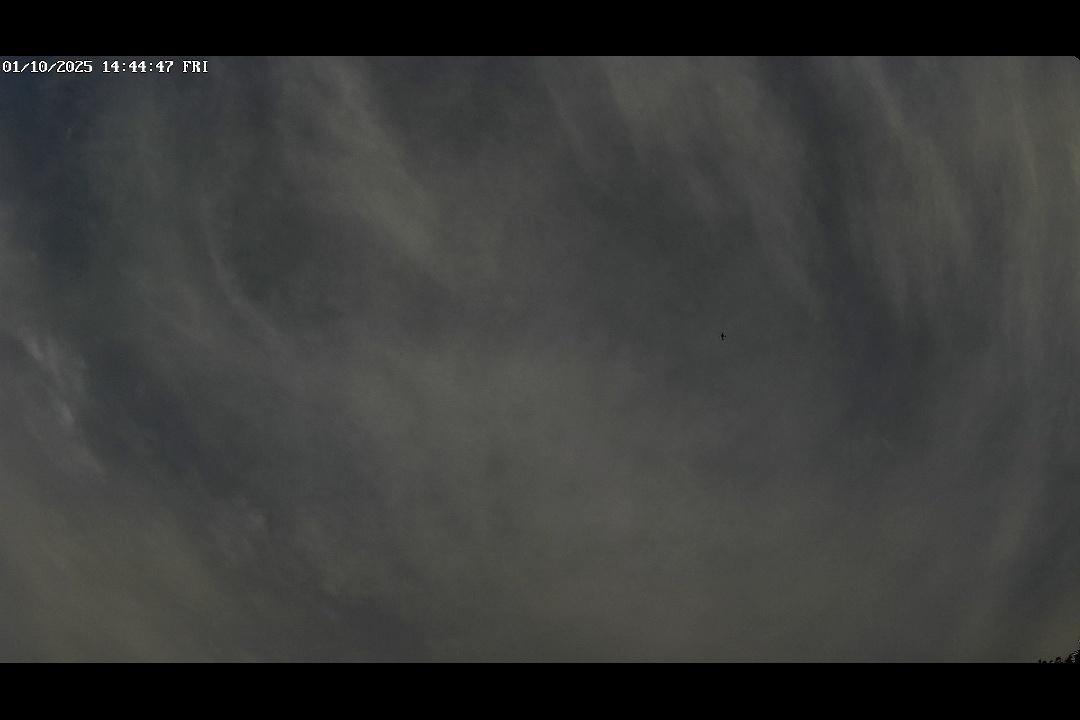Plane: (715, 330, 731, 342)
